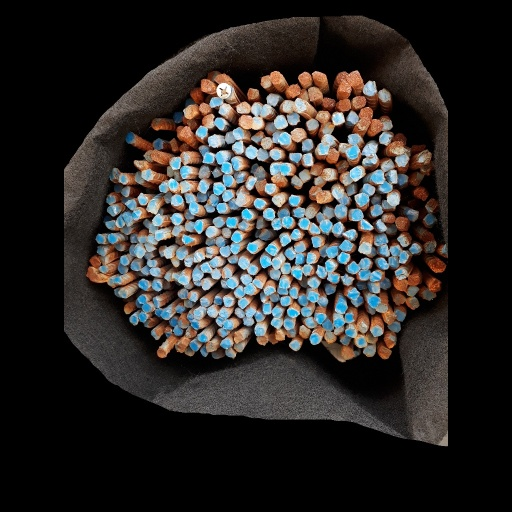dipstick: (346, 70, 363, 88), (394, 215, 410, 232), (392, 275, 409, 291), (289, 127, 305, 143), (430, 258, 446, 274), (353, 193, 371, 207), (362, 81, 378, 96), (336, 83, 352, 98), (217, 83, 232, 99), (417, 150, 432, 165), (338, 171, 353, 186), (308, 185, 323, 200), (427, 278, 442, 293), (394, 153, 410, 167), (419, 159, 433, 175), (413, 186, 429, 200), (379, 158, 395, 172), (383, 170, 399, 184), (358, 218, 374, 232), (382, 311, 398, 325), (370, 118, 383, 135), (362, 156, 379, 169), (377, 88, 391, 103), (345, 110, 359, 125), (371, 169, 385, 184), (345, 145, 360, 159), (378, 179, 393, 193), (386, 191, 400, 206), (422, 239, 437, 253), (315, 190, 330, 204), (300, 152, 314, 167), (377, 345, 392, 359), (238, 115, 253, 129), (424, 198, 437, 214), (379, 117, 393, 131), (391, 141, 405, 155), (335, 160, 349, 174), (337, 191, 351, 205), (367, 280, 381, 294), (340, 345, 354, 359), (260, 103, 274, 117), (244, 145, 258, 159), (356, 117, 371, 130), (396, 173, 409, 188), (307, 87, 322, 100), (311, 71, 326, 84), (293, 98, 306, 113), (315, 110, 330, 123), (319, 122, 334, 135), (334, 204, 347, 219), (271, 194, 286, 207), (319, 219, 332, 234), (422, 288, 437, 301), (405, 296, 420, 309), (375, 257, 390, 270), (253, 166, 266, 181), (108, 167, 121, 182), (351, 96, 367, 108), (361, 144, 377, 156), (337, 98, 351, 111), (394, 132, 407, 146), (331, 112, 345, 125), (298, 72, 312, 85), (305, 117, 319, 130), (274, 115, 287, 129), (361, 183, 375, 196), (406, 208, 420, 221), (369, 204, 383, 217), (397, 234, 411, 247), (309, 164, 323, 177), (297, 217, 311, 230), (338, 239, 352, 252), (408, 273, 421, 287), (358, 257, 372, 270), (336, 251, 350, 264), (236, 101, 250, 114), (240, 208, 254, 221), (232, 127, 245, 141), (183, 106, 197, 119), (231, 141, 244, 155), (230, 157, 243, 171), (207, 134, 220, 148), (358, 107, 373, 119), (411, 171, 423, 186), (320, 134, 335, 146), (280, 216, 295, 228), (388, 255, 400, 270), (387, 320, 402, 332), (384, 333, 396, 348), (250, 131, 265, 143), (373, 235, 389, 246), (317, 142, 330, 155), (382, 199, 395, 212), (322, 207, 335, 220), (321, 168, 334, 181), (277, 132, 290, 145), (288, 194, 301, 207), (324, 331, 337, 344), (298, 325, 311, 338), (327, 271, 340, 284), (265, 243, 278, 256), (260, 137, 273, 150), (269, 71, 282, 84), (237, 256, 250, 269), (200, 79, 213, 92), (201, 114, 214, 127), (197, 166, 210, 179), (179, 166, 192, 179), (180, 127, 193, 140), (141, 169, 154, 182), (123, 198, 136, 211), (335, 71, 349, 83), (280, 100, 294, 112), (350, 167, 362, 181), (423, 213, 435, 227), (350, 208, 364, 220), (342, 228, 356, 240), (357, 241, 371, 253), (395, 267, 409, 279), (266, 94, 280, 106), (255, 181, 269, 193), (256, 147, 268, 161), (134, 171, 146, 185), (145, 233, 159, 245), (381, 212, 396, 223), (404, 285, 419, 296), (123, 212, 134, 227), (379, 132, 392, 144), (301, 138, 313, 151), (286, 113, 299, 125), (327, 147, 340, 159), (344, 183, 357, 195), (313, 175, 326, 187), (307, 223, 320, 235), (310, 235, 322, 248), (279, 233, 291, 246), (377, 243, 389, 256), (347, 260, 359, 273), (369, 269, 381, 282), (367, 295, 380, 307), (393, 309, 405, 322), (362, 346, 375, 358), (354, 336, 367, 348), (347, 288, 360, 300), (308, 333, 321, 345), (340, 274, 353, 286), (324, 260, 337, 272), (280, 262, 292, 275), (291, 268, 303, 281), (315, 265, 327, 278), (271, 306, 284, 318), (269, 267, 281, 280), (260, 255, 272, 268), (258, 228, 271, 240), (263, 208, 275, 221), (251, 117, 263, 130), (260, 75, 272, 88), (235, 193, 247, 206), (185, 325, 197, 338), (170, 213, 183, 225), (227, 198, 240, 210), (218, 104, 231, 116), (233, 170, 246, 182), (196, 125, 208, 138), (134, 159, 147, 171), (106, 204, 119, 216), (347, 133, 361, 144), (321, 97, 335, 108), (375, 219, 386, 233), (349, 296, 363, 307), (334, 302, 348, 313), (305, 317, 319, 328), (270, 162, 281, 176), (170, 194, 184, 205), (209, 97, 223, 108), (214, 74, 228, 85), (245, 176, 256, 190), (236, 185, 250, 196), (119, 226, 136, 235), (288, 84, 300, 96), (290, 228, 302, 240), (409, 242, 421, 254), (379, 277, 391, 289), (371, 325, 383, 337), (339, 334, 351, 346), (321, 319, 333, 331), (305, 252, 317, 264), (269, 148, 281, 160), (247, 87, 259, 99), (259, 291, 271, 303), (237, 297, 249, 309), (219, 245, 231, 257), (222, 174, 234, 186), (202, 152, 214, 164), (152, 138, 164, 150), (331, 187, 344, 198), (384, 223, 397, 234), (289, 151, 302, 162), (280, 162, 291, 175), (299, 168, 310, 181), (291, 174, 302, 187), (332, 222, 343, 235), (389, 245, 402, 256), (325, 246, 338, 257), (398, 250, 409, 263), (344, 326, 357, 337), (393, 294, 406, 305), (332, 317, 345, 328), (314, 313, 327, 324), (307, 277, 320, 288), (181, 234, 194, 245), (193, 220, 204, 233), (221, 162, 232, 175), (215, 151, 226, 164), (196, 182, 209, 193), (169, 157, 180, 170), (179, 151, 190, 164), (186, 117, 197, 130), (137, 193, 148, 206), (132, 209, 143, 222), (151, 214, 164, 225), (134, 245, 145, 258), (357, 270, 371, 280), (338, 142, 350, 153), (370, 194, 382, 205), (318, 245, 330, 256), (293, 241, 305, 252), (366, 332, 378, 343), (357, 321, 368, 333), (343, 312, 355, 323), (324, 284, 336, 295), (301, 265, 313, 276), (307, 290, 318, 302), (298, 294, 309, 306), (283, 318, 294, 330), (289, 340, 301, 351), (275, 330, 286, 342), (264, 183, 276, 194), (254, 325, 265, 337), (253, 311, 265, 322), (252, 278, 264, 289), (246, 242, 258, 253), (253, 198, 265, 209), (231, 231, 242, 243), (243, 284, 255, 295), (234, 286, 245, 298), (245, 306, 256, 318), (242, 316, 254, 327), (177, 318, 189, 329), (173, 324, 184, 336), (227, 278, 238, 290), (221, 267, 232, 279), (191, 268, 203, 279), (176, 248, 188, 259), (213, 216, 225, 227), (171, 225, 183, 236), (188, 202, 199, 214), (207, 70, 219, 81), (213, 118, 224, 130), (213, 183, 225, 194), (211, 166, 222, 178), (158, 182, 170, 193), (172, 112, 183, 124), (146, 203, 157, 215), (154, 230, 165, 242), (137, 231, 149, 242), (151, 281, 163, 292), (292, 207, 305, 217), (375, 303, 388, 313), (366, 302, 376, 315), (299, 307, 312, 317), (280, 296, 293, 306), (277, 208, 290, 218), (265, 122, 275, 135), (230, 242, 240, 255), (221, 191, 234, 201), (195, 192, 208, 202), (225, 131, 235, 144), (168, 178, 178, 191), (177, 142, 190, 152), (144, 242, 157, 252), (286, 308, 300, 317), (189, 88, 203, 97), (151, 117, 160, 131), (304, 207, 315, 218), (271, 218, 282, 229), (317, 296, 328, 307), (356, 279, 367, 290), (271, 317, 282, 328), (277, 285, 288, 296), (271, 258, 282, 269), (247, 264, 258, 275), (226, 216, 237, 227), (222, 319, 233, 330), (233, 331, 244, 342), (217, 327, 228, 338), (206, 341, 217, 352), (175, 341, 186, 352), (187, 291, 198, 302), (205, 247, 216, 258), (205, 226, 216, 237), (163, 248, 174, 259), (184, 221, 195, 232), (184, 209, 195, 220), (140, 265, 151, 276), (150, 328, 161, 339), (422, 232, 434, 242), (285, 328, 297, 338), (271, 174, 283, 184), (256, 335, 268, 345), (264, 285, 276, 295), (240, 274, 252, 284), (215, 316, 225, 328), (177, 288, 189, 298), (201, 278, 211, 290), (211, 268, 221, 280), (209, 257, 221, 267), (208, 195, 220, 205), (125, 132, 135, 144), (144, 150, 154, 162), (177, 126, 187, 138), (129, 260, 141, 270), (138, 279, 148, 291), (124, 303, 134, 315), (94, 273, 106, 283), (262, 302, 271, 315), (169, 139, 178, 152), (272, 132, 282, 143), (294, 254, 305, 264), (288, 287, 298, 298), (279, 277, 290, 287), (234, 308, 245, 318), (225, 348, 236, 358), (220, 338, 231, 348), (218, 308, 229, 318), (207, 307, 218, 317), (183, 256, 194, 266), (215, 237, 226, 247), (221, 227, 231, 238), (170, 256, 180, 267), (184, 192, 195, 202), (198, 103, 209, 113), (180, 182, 190, 193), (150, 150, 160, 161), (163, 192, 173, 203), (120, 186, 131, 196), (105, 194, 116, 204), (107, 233, 117, 244), (148, 223, 158, 234), (89, 257, 100, 267), (120, 255, 130, 266), (150, 267, 161, 277), (117, 263, 128, 273), (119, 288, 129, 299), (141, 302, 152, 312), (137, 312, 148, 322), (157, 348, 168, 358), (86, 267, 96, 278), (183, 298, 195, 307), (216, 203, 228, 212), (119, 173, 128, 185), (114, 242, 126, 251), (99, 265, 111, 274), (270, 292, 280, 302), (268, 334, 278, 344), (189, 340, 199, 350), (190, 319, 200, 329), (129, 233, 139, 243), (97, 254, 107, 264), (284, 248, 295, 257), (333, 326, 344, 335), (233, 342, 242, 353), (193, 309, 202, 320), (197, 333, 208, 342), (194, 252, 205, 261), (204, 202, 215, 211), (250, 163, 259, 174), (95, 234, 106, 243), (116, 216, 125, 227), (96, 246, 107, 255), (128, 315, 139, 324), (104, 220, 116, 228), (238, 221, 248, 230), (200, 297, 209, 307), (213, 295, 222, 305), (223, 297, 232, 307), (186, 312, 195, 322), (169, 317, 179, 326), (175, 304, 185, 313), (200, 263, 210, 272), (178, 275, 188, 284), (171, 272, 180, 282), (205, 237, 215, 246), (137, 295, 147, 304), (315, 212, 323, 223), (185, 98, 196, 106), (159, 246, 167, 257), (129, 245, 137, 256), (161, 311, 170, 320), (164, 272, 173, 281), (199, 146, 208, 155), (142, 219, 151, 228), (200, 346, 208, 356), (228, 255, 238, 263), (144, 251, 154, 259), (147, 259, 157, 267), (112, 276, 122, 284), (164, 327, 172, 337), (153, 297, 160, 308), (212, 350, 221, 358), (184, 281, 193, 289), (221, 279, 229, 288), (135, 299, 142, 308), (193, 279, 201, 285)
